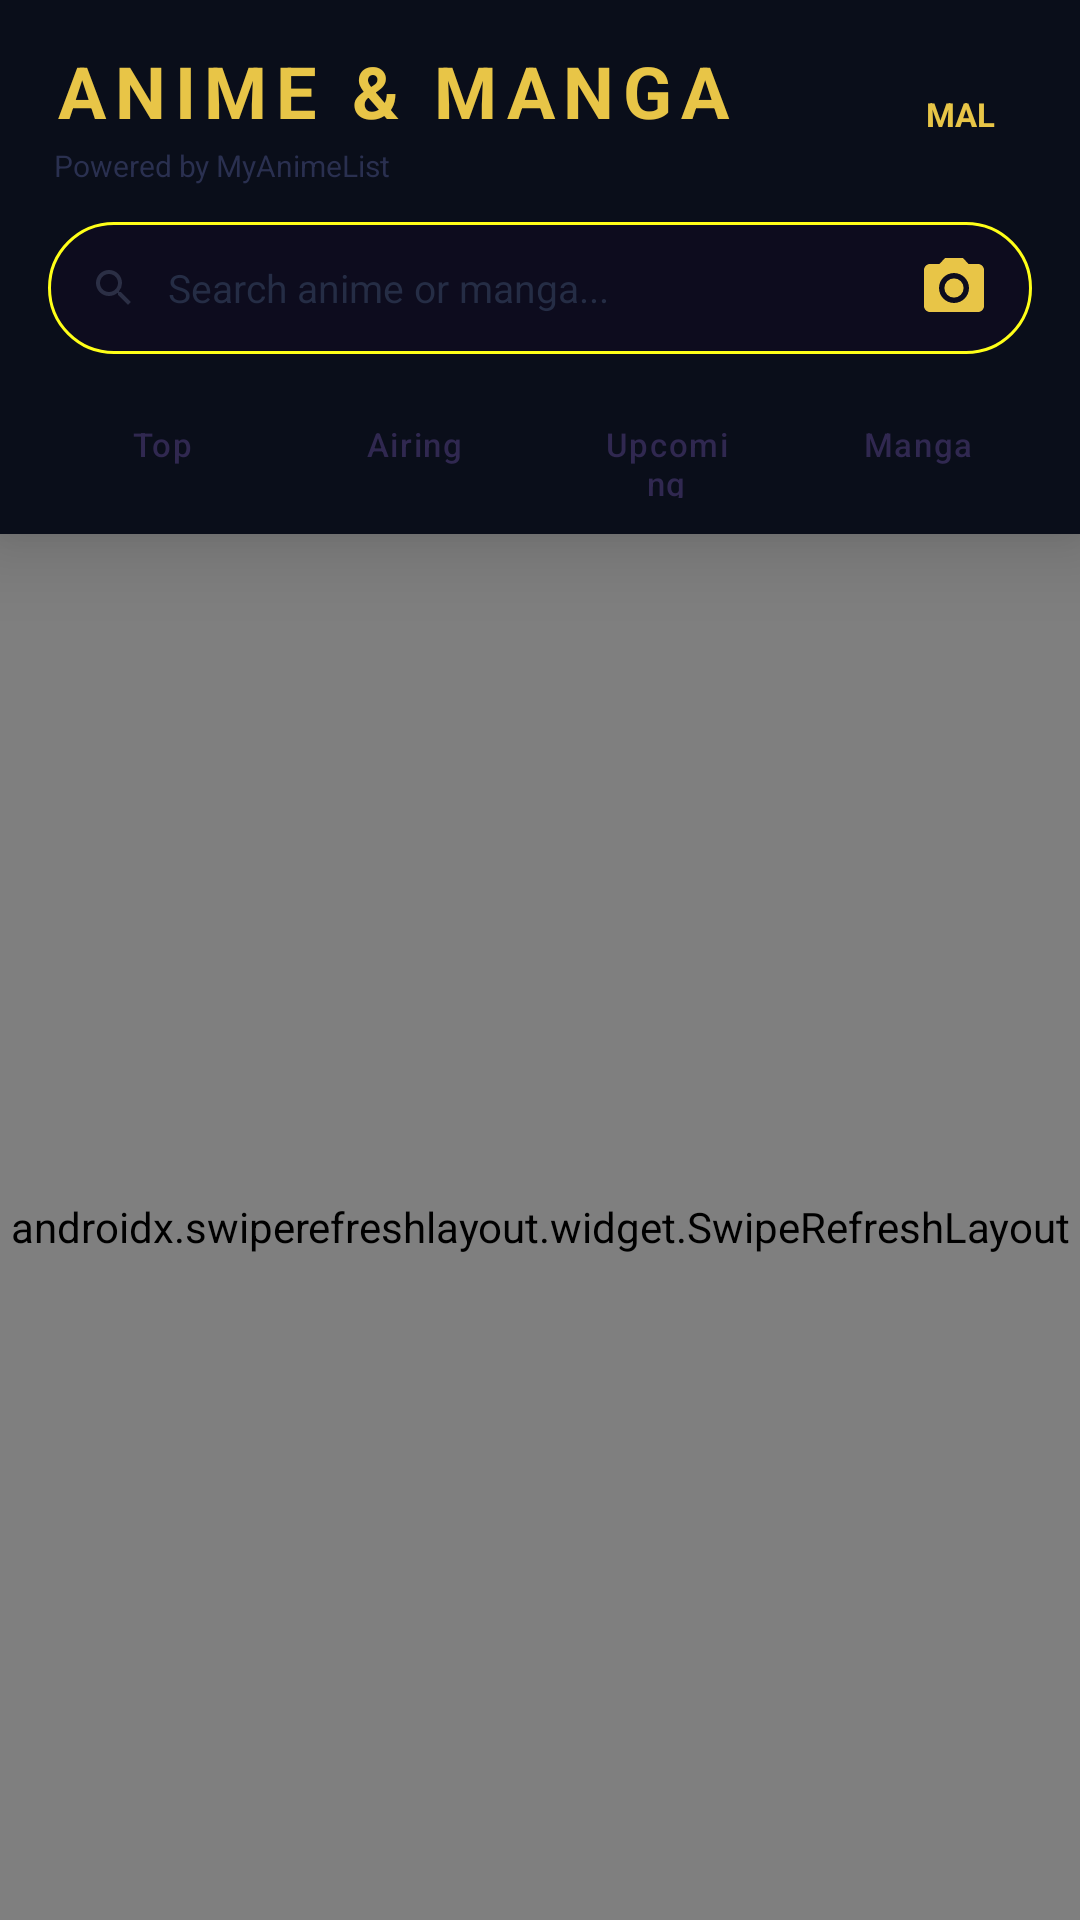

Icon bounding boxes for this 1080*1920 phone screenshot, format (x1,y1,x2,y2):
Search by image: (924,258,984,312)
